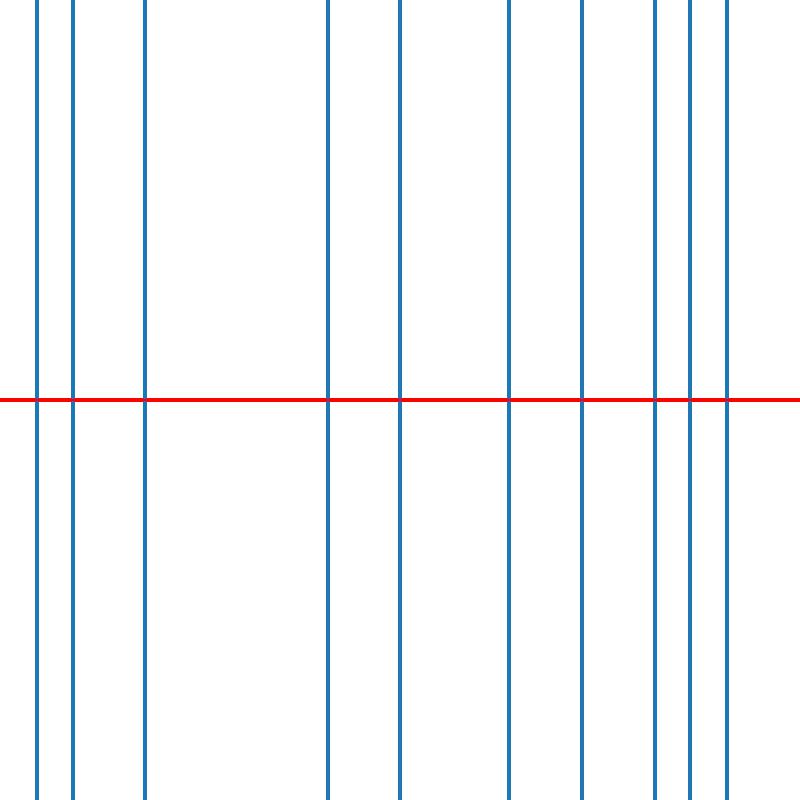root: (650, 396, 658, 404), (32, 396, 40, 404), (141, 396, 149, 404), (69, 396, 76, 404), (396, 396, 403, 404), (687, 396, 694, 404), (578, 396, 585, 404), (323, 396, 330, 404), (723, 396, 730, 404), (505, 396, 512, 404)
